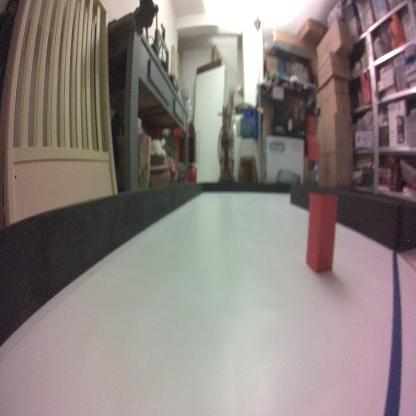red: (304, 190, 338, 276)
